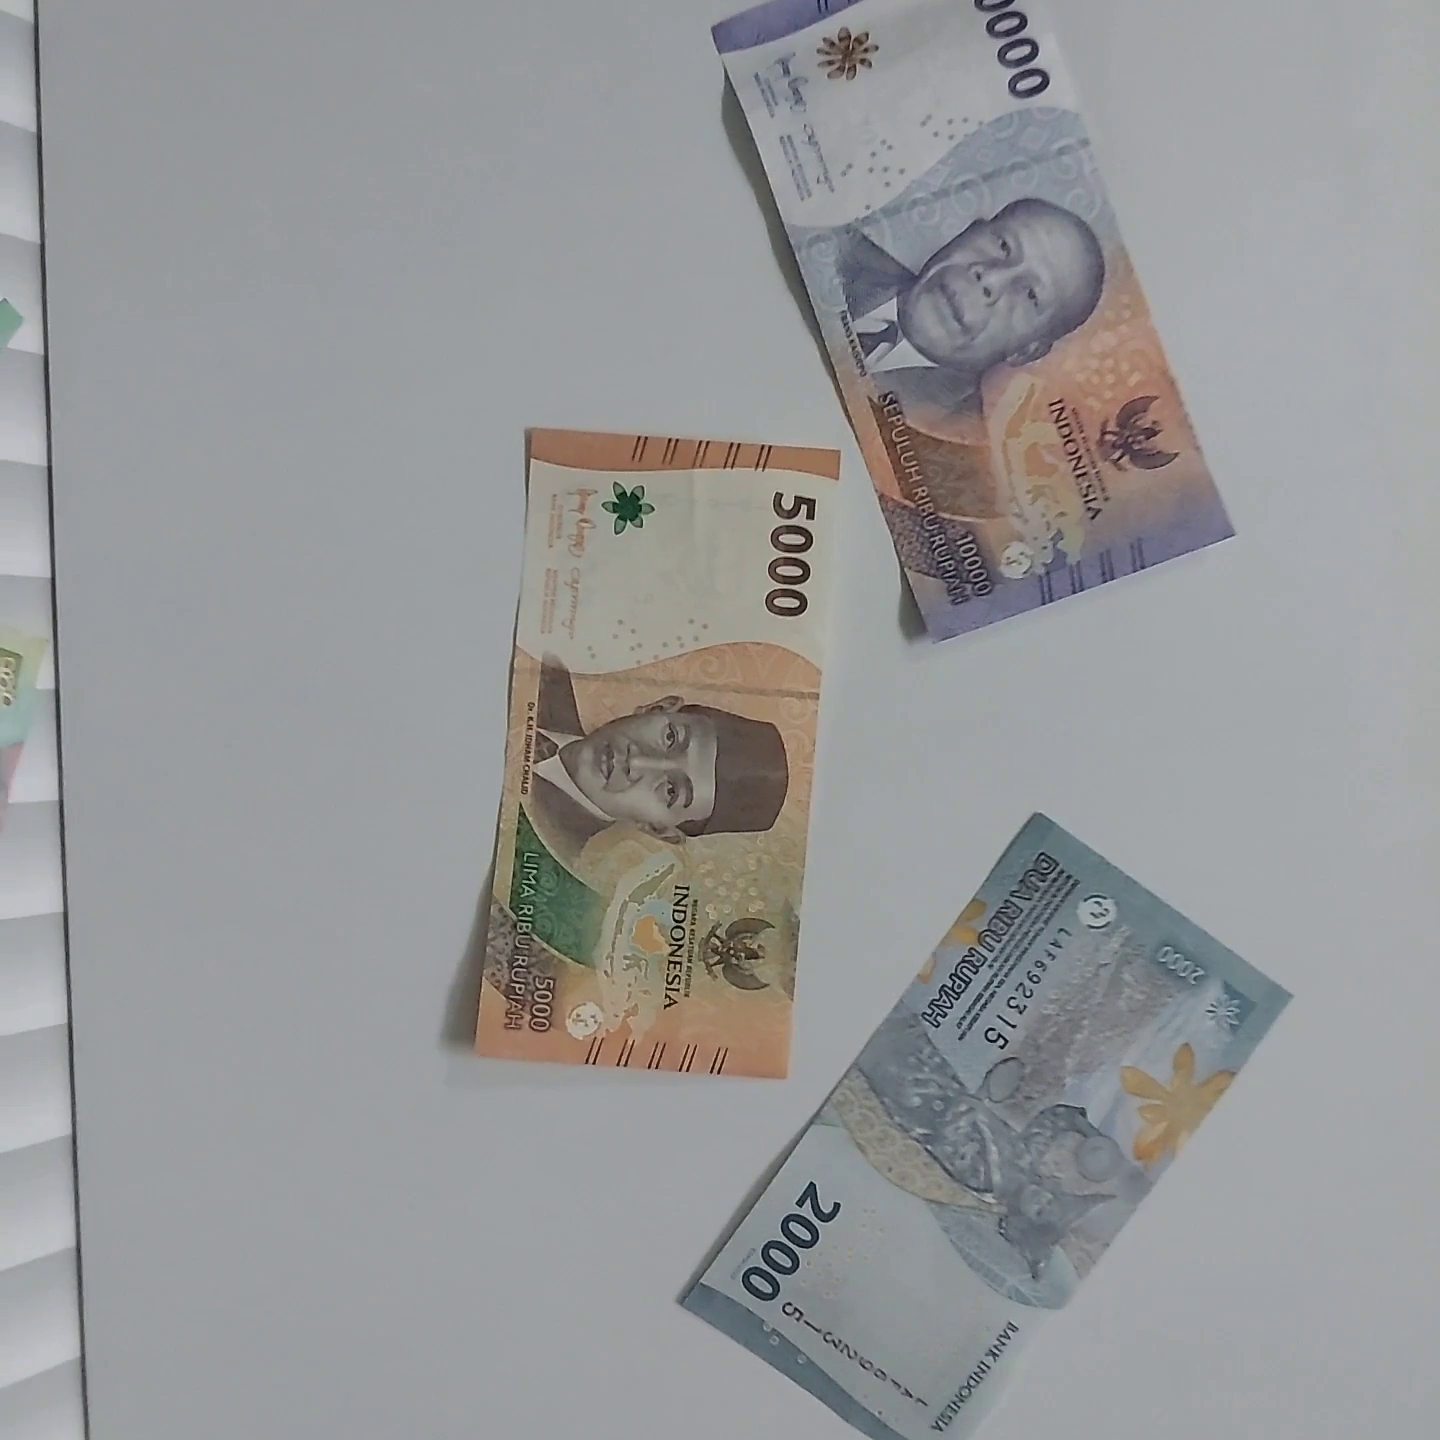10k: (738, 142, 1197, 746), (600, 0, 1298, 137)
5k: (508, 406, 857, 1077), (1026, 791, 1329, 1371)
